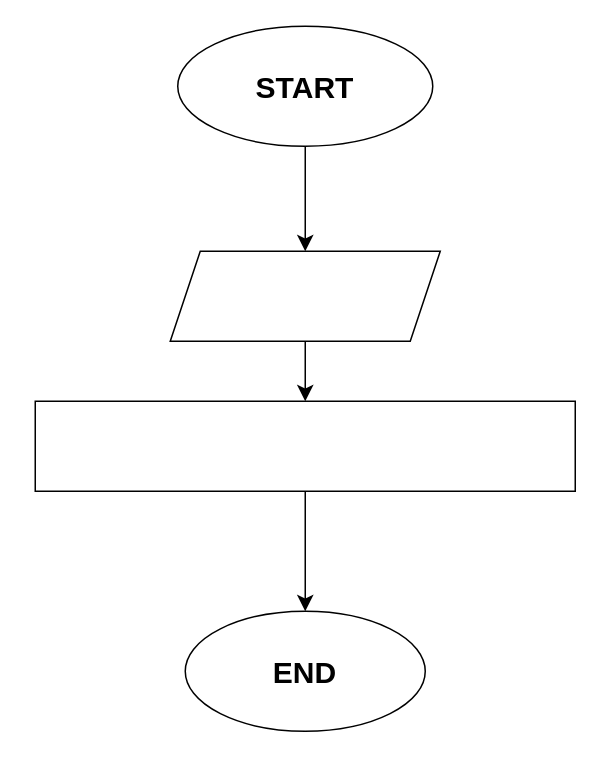
The diagram is 609 pixels wide and 758 high, and some of its shapes have lost their labels. Each missing label, with the centre of its shape:
fullName = name + " " + surName: point 304,445
name , surname: point 304,295
